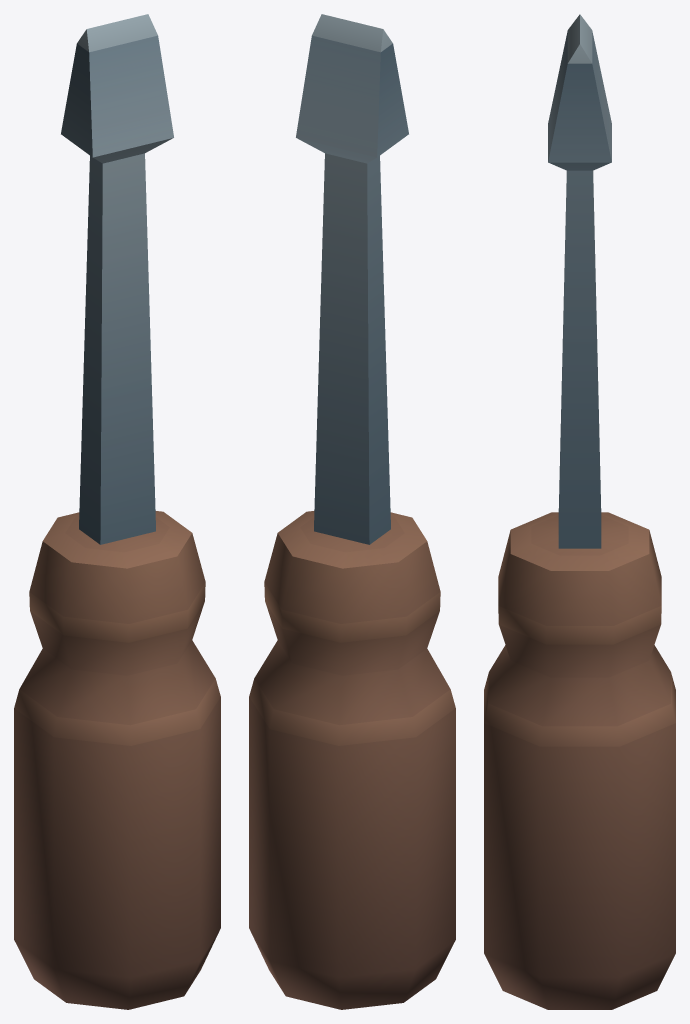
The model's file is screwdriver_A_long.obj.
The picture shows the model from 3 angles, left to right: view 1: azimuth 30°, elevation 25°; view 2: azimuth 150°, elevation 25°; view 3: azimuth 270°, elevation 25°; orthographic projection.
Parts seen in each view (by area): view 1: screwdriver_A_long; view 2: screwdriver_A_long; view 3: screwdriver_A_long.
Boxes of the visible parts, x1=… form: screwdriver_A_long: x1=14, y1=14, x2=220, y2=1009; screwdriver_A_long: x1=249, y1=14, x2=455, y2=1009; screwdriver_A_long: x1=484, y1=14, x2=675, y2=1009.
Bounding box in the file's own units: 0.1513 × 0.8434 × 0.1513.
Materials: 1 (1 with a texture image).
